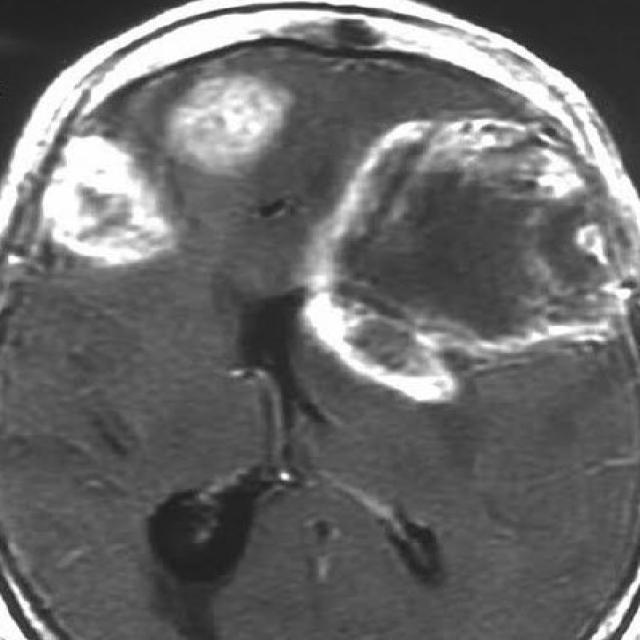glioma: (308, 120, 622, 403), (54, 138, 176, 264), (162, 74, 298, 177)
